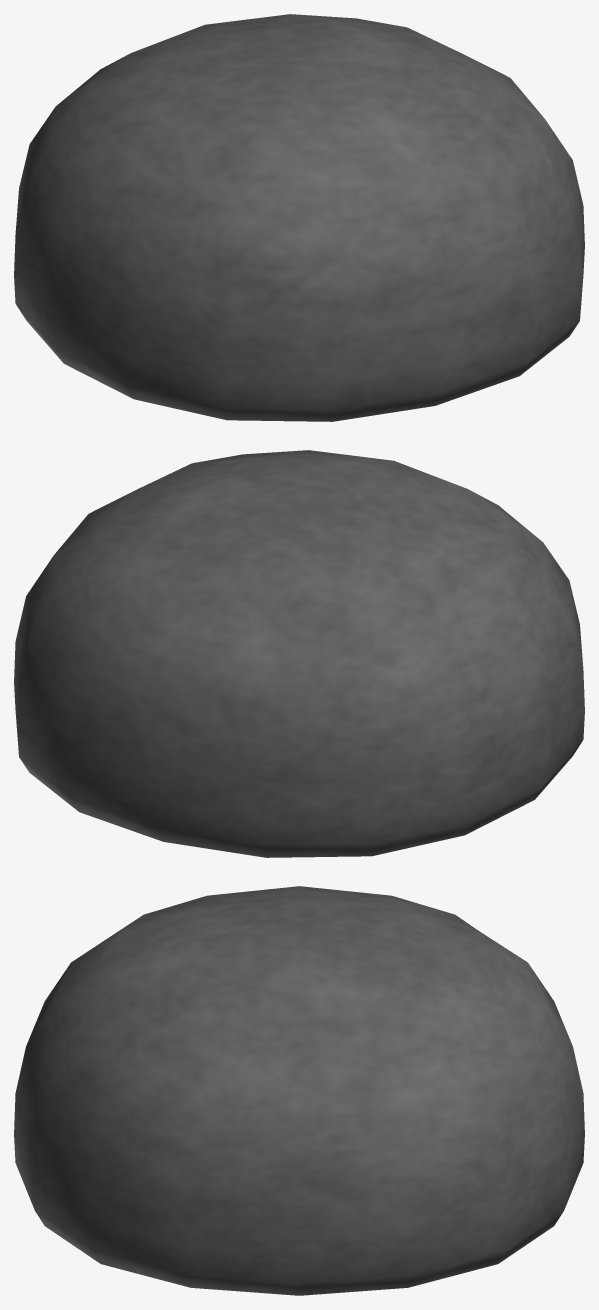
File: Rock.fbx
The picture shows the model from 3 angles, top to bottom: view 1: azimuth 30°, elevation 25°; view 2: azimuth 150°, elevation 25°; view 3: azimuth 270°, elevation 25°; orthographic projection.
Visible parts, largest first — view 1: Rock; view 2: Rock; view 3: Rock.
Part boxes in pixels (x1,y1,x2,y2): Rock: (14, 14, 584, 421); Rock: (14, 450, 584, 857); Rock: (14, 886, 584, 1295).
Bounding box in the file's own units: 0.6479 × 0.6479 × 0.325.
Materials: 1 (1 with a texture image).
